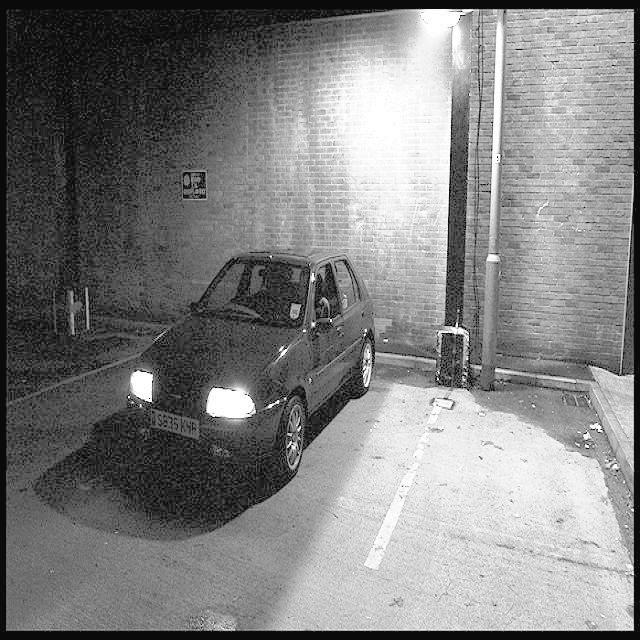Car: (77, 225, 422, 537)
